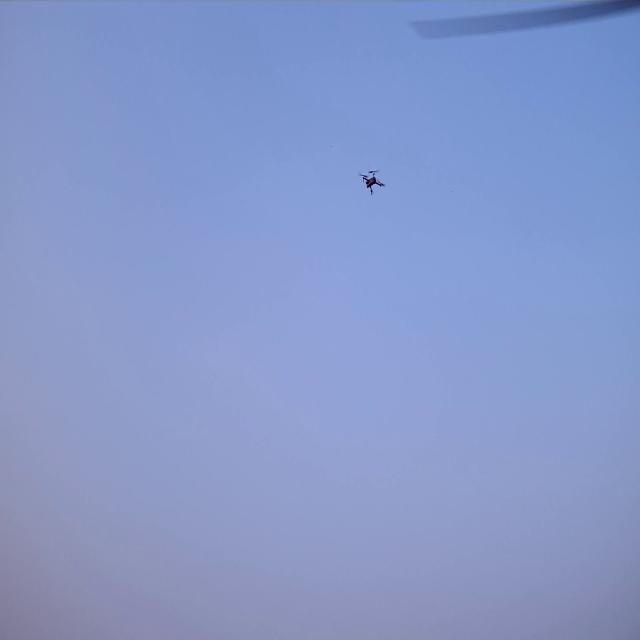UAV: (355, 165, 385, 198)
